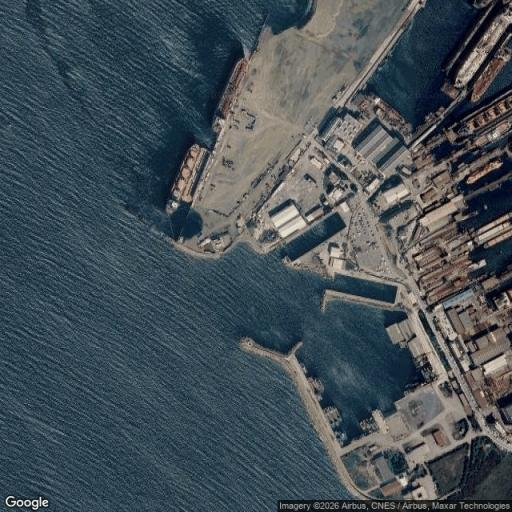ship: (455, 4, 511, 87), (166, 144, 208, 213), (457, 94, 511, 135), (471, 48, 511, 103), (218, 58, 248, 118), (367, 92, 406, 123), (469, 122, 510, 147), (466, 159, 502, 184), (472, 221, 511, 242), (478, 213, 511, 234), (484, 228, 511, 248), (307, 377, 322, 401), (325, 406, 339, 428), (321, 409, 335, 428), (329, 406, 343, 423), (314, 377, 325, 394), (297, 361, 309, 373)
